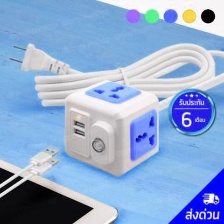phone: (0, 151, 122, 224)
three_eye_plug: (59, 71, 163, 182)
